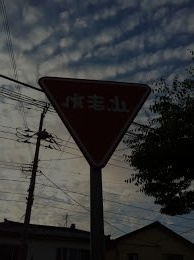Regulatory_sign_triangle: (37, 72, 156, 172)
